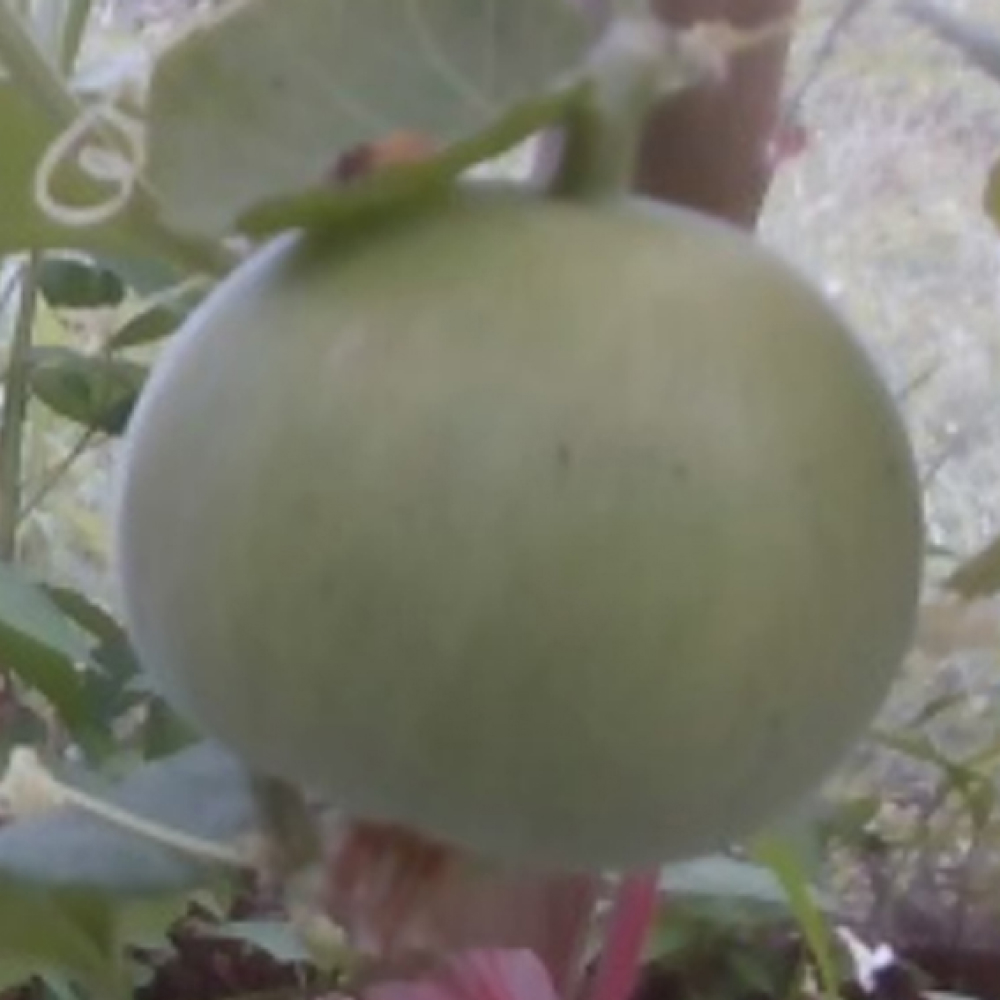melon: (111, 173, 932, 883)
